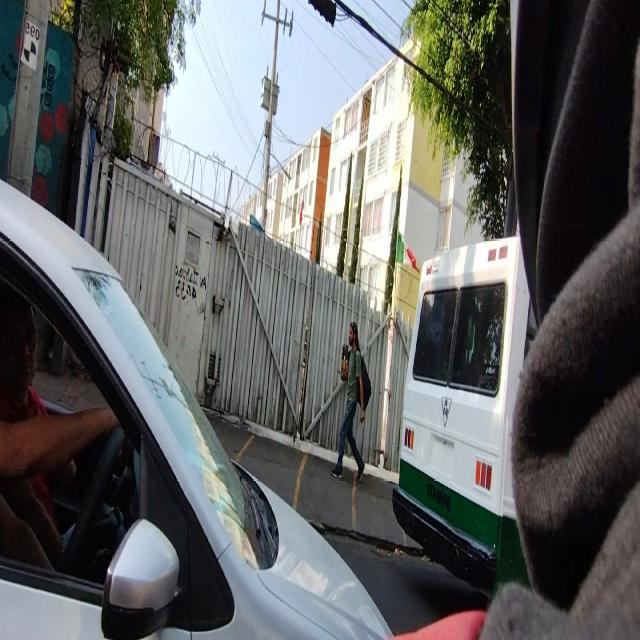adult: (1, 302, 71, 540), (332, 322, 363, 478)
